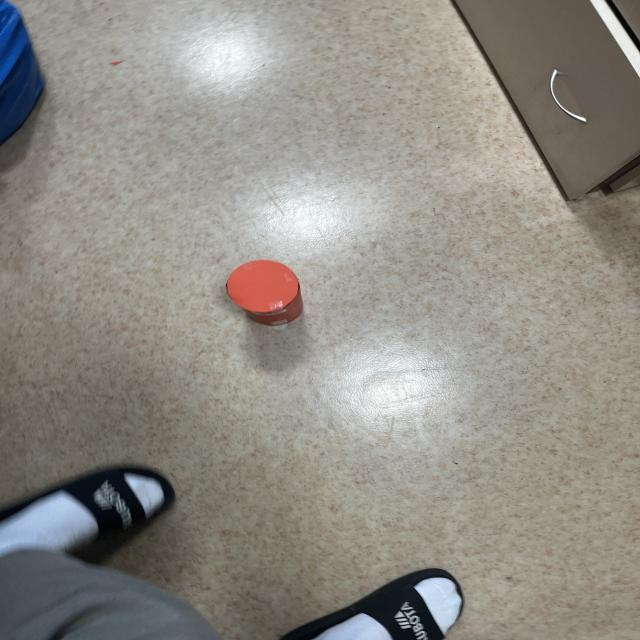przeszkoda: (226, 260, 303, 326)
